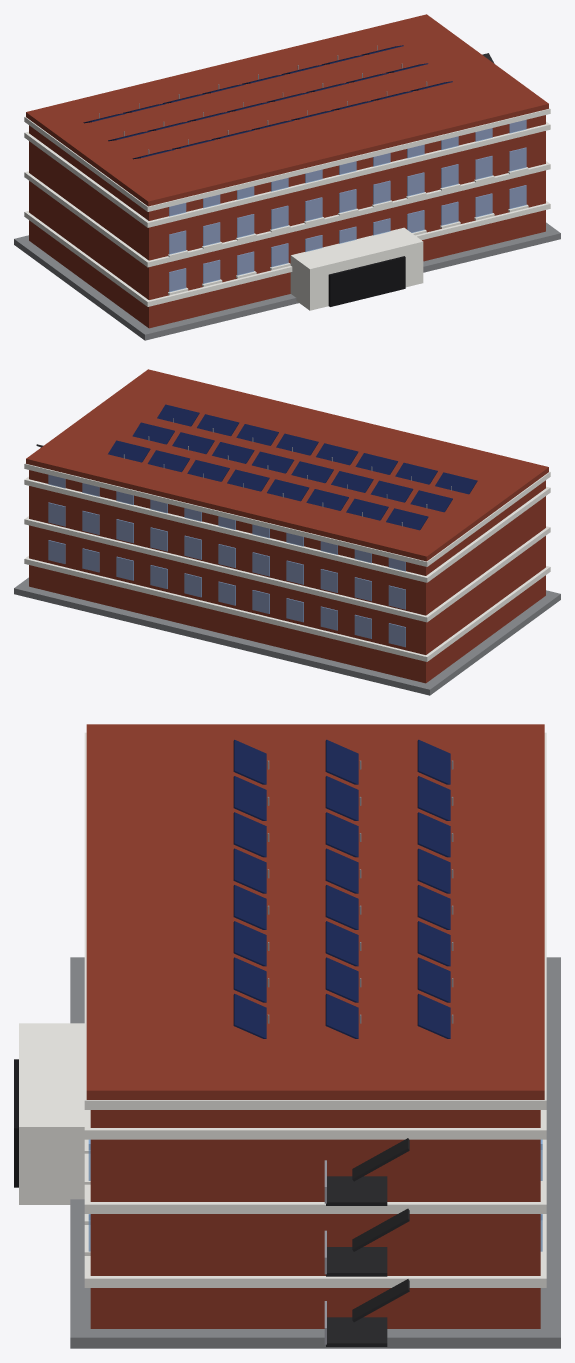
Rendered from cse-building.glb.
3 renders of one model, top to bottom at view 1: azimuth 30°, elevation 25°; view 2: azimuth 150°, elevation 25°; view 3: azimuth 270°, elevation 25°, orthographic. The views are drawn at different scales.
Visible parts, largest first — view 1: CSE_Block_Red_Brick; view 2: CSE_Block_Red_Brick; view 3: CSE_Block_Red_Brick.
Part boxes in pixels (box(x1,y1,x2,y2)): CSE_Block_Red_Brick: box(14, 14, 560, 340); CSE_Block_Red_Brick: box(14, 369, 560, 695); CSE_Block_Red_Brick: box(14, 724, 560, 1348).
Size of the model in its own units: 46.85 by 14.31 by 26.75.
